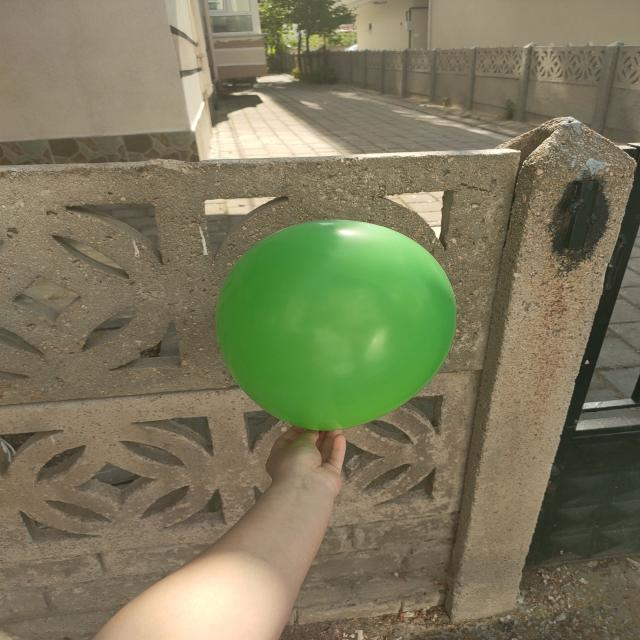green: (219, 222, 457, 432)
